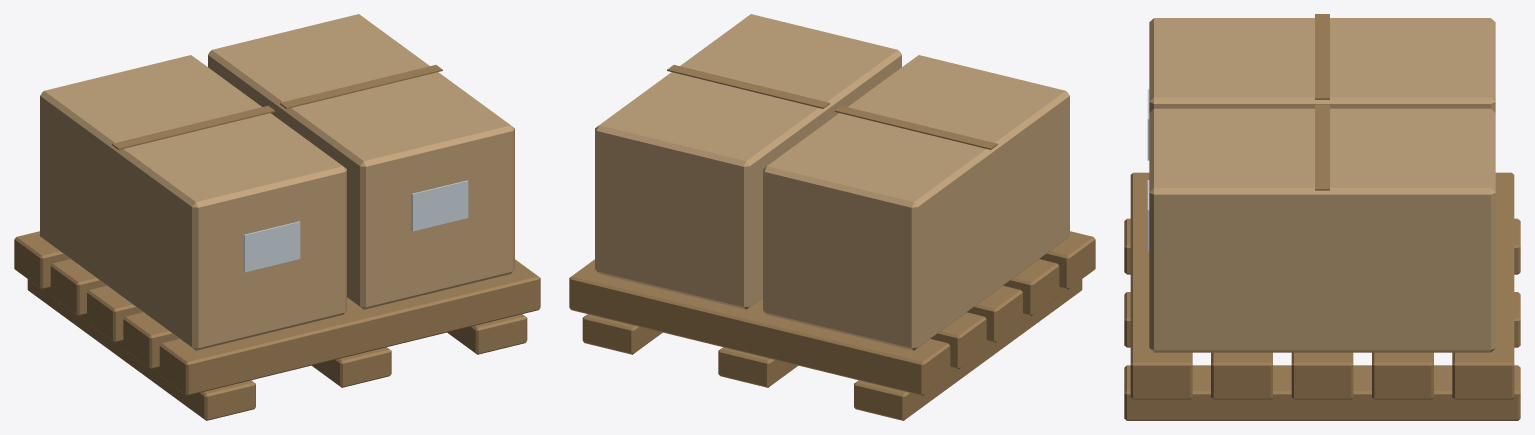
Rendered from pallet.glb.
The picture shows the model from 3 angles, left to right: view 1: azimuth 30°, elevation 25°; view 2: azimuth 150°, elevation 25°; view 3: azimuth 270°, elevation 25°; orthographic projection. The views are drawn at different scales.
Parts seen in each view (by area): view 1: Pallet_Geometry; view 2: Pallet_Geometry; view 3: Pallet_Geometry.
Part boxes in pixels (x1,y1,x2,y2): Pallet_Geometry: (14,14,540,420); Pallet_Geometry: (569,14,1095,420); Pallet_Geometry: (1124,14,1520,420).
Size of the model in its own units: 0.55 by 0.312 by 0.48.
